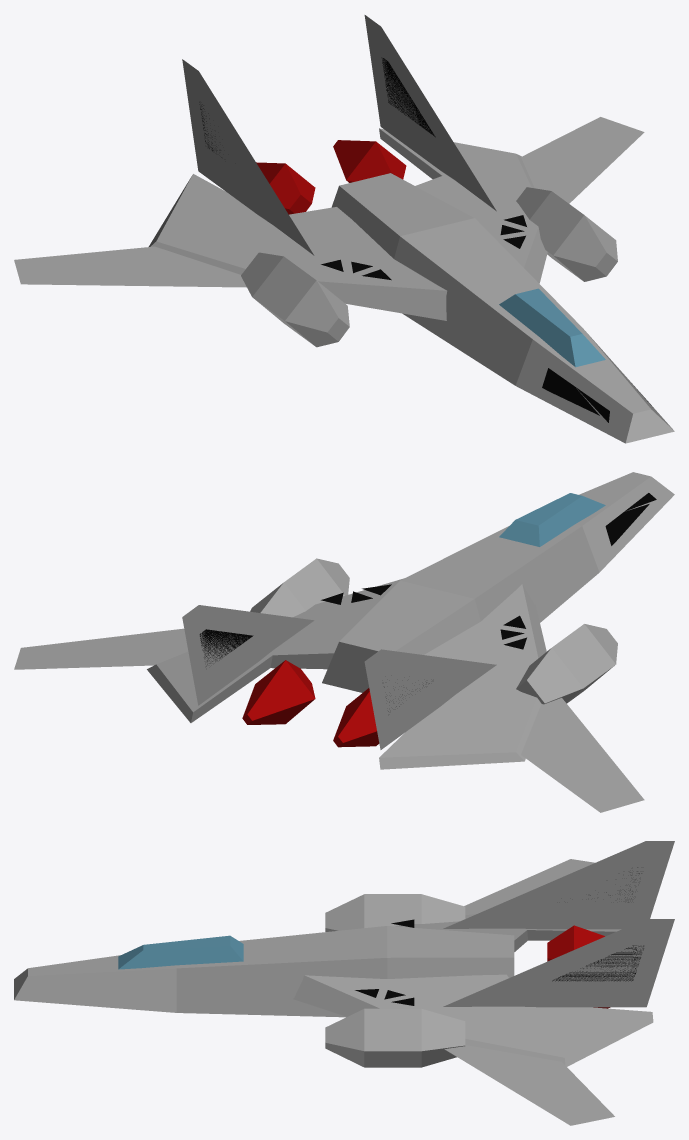
File: player3.obj
The picture shows the model from 3 angles, top to bottom: view 1: azimuth 30°, elevation 25°; view 2: azimuth 150°, elevation 25°; view 3: azimuth 270°, elevation 25°; orthographic projection. The views are drawn at different scales.
Parts seen in each view (by area): view 1: Wings, Body_Cube.001, Cockpit_Cube.002; view 2: Wings, Body_Cube.001, Cockpit_Cube.002; view 3: Wings, Body_Cube.001, Cockpit_Cube.002.
Boxes of the visible parts, x1,y1,x2,y2 form: Wings: [14, 15, 644, 347]; Body_Cube.001: [331, 173, 674, 443]; Cockpit_Cube.002: [499, 288, 605, 367]; Wings: [14, 558, 644, 812]; Body_Cube.001: [322, 472, 674, 692]; Cockpit_Cube.002: [499, 493, 605, 546]; Wings: [293, 841, 674, 1125]; Body_Cube.001: [14, 926, 514, 1017]; Cockpit_Cube.002: [118, 935, 243, 969].
Size of the model in its own units: 9.94 by 2.26 by 10.4.
